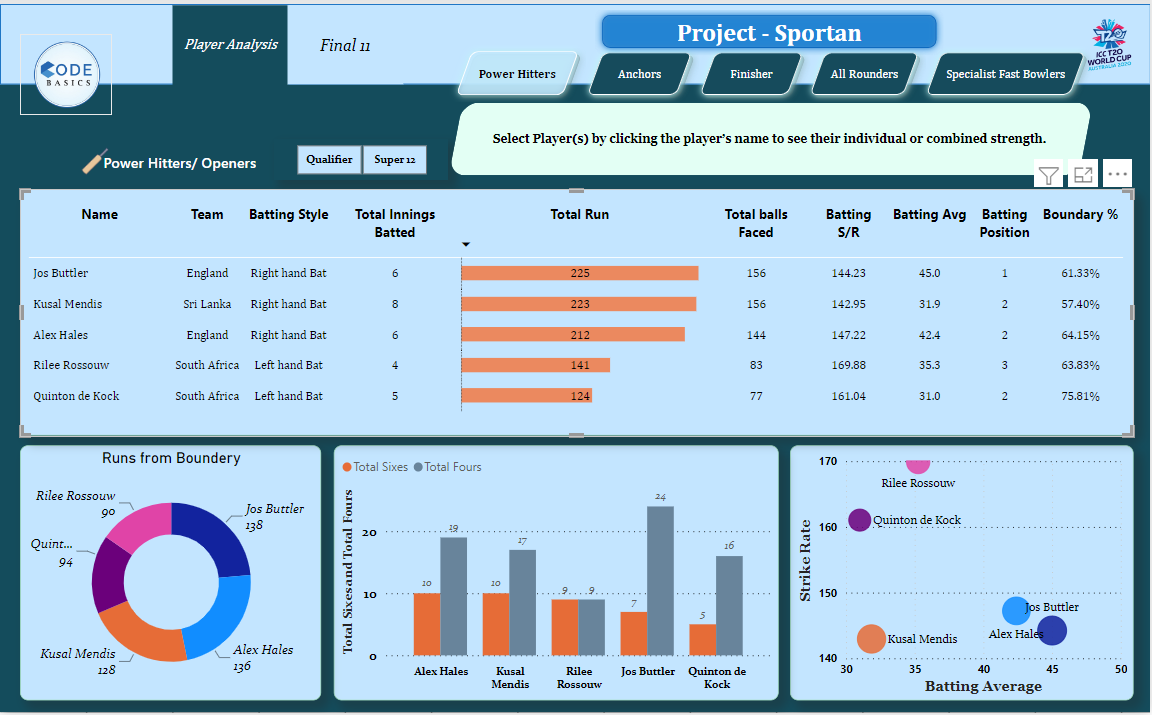

This screenshot's page, from the dashboard's own definition file:
{"tool":"powerbi","page":{"name":"Project - Sportan ","canvas":[1280,800],"ordinal":0},"visuals":[{"type":"shape","box":[0,90.6,1280.5,709],"z":0},{"type":"tableEx","title":"Shortlisted candidates based on parameters","fields":{"Values":["dim_players.name","dim_players.team","dim_players.battingStyle","Key_Mesures.Total Innings Batted","Key_Mesures.total run","Key_Mesures.Total balls Faced","Key_Mesures.Strike Rate","Key_Mesures.Batting Average","Key_Mesures.Batting Position","Key_Mesures.Boundary %"]},"box":[21.6,217.7,1239.9,274.5],"z":1000},{"type":"scatterChart","title":"Players by Bat Avg & Strike Rate","fields":{"X":["Key_Mesures.Batting Average"],"Y":["Key_Mesures.Strike Rate"],"Category":["dim_players.name"],"Size":["Key_Mesures.total run"]},"box":[879.3,502.3,382.6,283.8],"z":2000},{"type":"slicer","fields":{"Values":["dim_match_summary.stage"]},"box":[304.2,160.9,194.7,46],"z":3000},{"type":"shape","box":[106.8,160.9,197.4,50],"z":4000},{"type":"shape","box":[0,10.8,1280.5,89.2],"z":5000},{"type":"shape","box":[498.9,121.7,716.6,81.1],"z":6000},{"type":"card","fields":{"Values":["Key_Mesures.Batting Average"]},"box":[694.7,120.2,114,82.1],"z":7000},{"type":"card","fields":{"Values":["Key_Mesures.Strike Rate"]},"box":[808.7,120.2,115.5,82.1],"z":8000},{"type":"card","fields":{"Values":["Key_Mesures.Boundary %"]},"box":[924.2,120.2,126.3,82.1],"z":9000},{"type":"card","fields":{"Values":["Key_Mesures.Avg. balls Faced"]},"box":[1038,117.6,144.8,87.7],"z":10000},{"type":"shape","box":[530,140.6,165,40.6],"z":11000},{"type":"actionButton","box":[498.9,55.4,152.8,64.9],"z":12000},{"type":"actionButton","box":[770.7,56.8,131.2,63.5],"z":13000},{"type":"actionButton","box":[893.7,56.8,137.9,63.5],"z":14000},{"type":"actionButton","box":[1022.2,56.8,193.4,63.5],"z":15000},{"type":"actionButton","box":[645,56.8,132.5,63.5],"z":16000},{"type":"image","box":[21.6,44.6,104.1,90.6],"z":17000},{"type":"actionButton","box":[192,12.2,128.5,89.2],"z":18000},{"type":"image","box":[1189.9,10.8,90.6,90.6],"z":19000},{"type":"actionButton","box":[320.5,12.2,128.5,87.9],"z":20000},{"type":"shape","box":[530,140.6,653.1,40.6],"z":21000},{"type":"image","box":[86.5,165,39.2,40.6],"z":22000},{"type":"clusteredColumnChart","title":"Total Sixes and Total Fours by Power Hitters","fields":{"Category":["dim_players.name"],"Y":["fact_batting_sammary.sixes","fact_batting_sammary.fours"]},"box":[371.5,502.3,495.3,283.8],"z":23000},{"type":"donutChart","title":"Runs from Boundery","fields":{"Category":["dim_players.name"],"Y":["fact_batting_sammary.Boundary runs"]},"box":[22.3,502.3,335.3,283.8],"z":24000},{"type":"shape","box":[662.3,15.3,388.2,52.9],"z":25000}]}

Visuals, with their boxes in screenshot pixels (x1, y1, x2, y2), scaled from the page's 1280x800 canvas onto the 1152x715 screenshot:
shape: 0:81:1151:714
"Shortlisted candidates based on parameters" tableEx: 19:195:1135:440
"Players by Bat Avg & Strike Rate" scatterChart: 791:449:1136:703
slicer - dim_match_summary.stage: 274:144:449:185
shape: 96:144:274:188
shape: 0:10:1151:89
shape: 449:109:1094:181
card - Key_Mesures.Batting Average: 625:107:728:181
card - Key_Mesures.Strike Rate: 728:107:832:181
card - Key_Mesures.Boundary %: 832:107:945:181
card - Key_Mesures.Avg. balls Faced: 934:105:1065:183
shape: 477:126:626:162
actionButton: 449:50:587:108
actionButton: 694:51:812:108
actionButton: 804:51:928:108
actionButton: 920:51:1094:108
actionButton: 580:51:700:108
image: 19:40:113:121
actionButton: 173:11:288:91
image: 1071:10:1151:91
actionButton: 288:11:404:89
shape: 477:126:1065:162
image: 78:147:113:184
"Total Sixes and Total Fours by Power Hitters" clusteredColumnChart: 334:449:780:703
"Runs from Boundery" donutChart: 20:449:322:703
shape: 596:14:945:61
